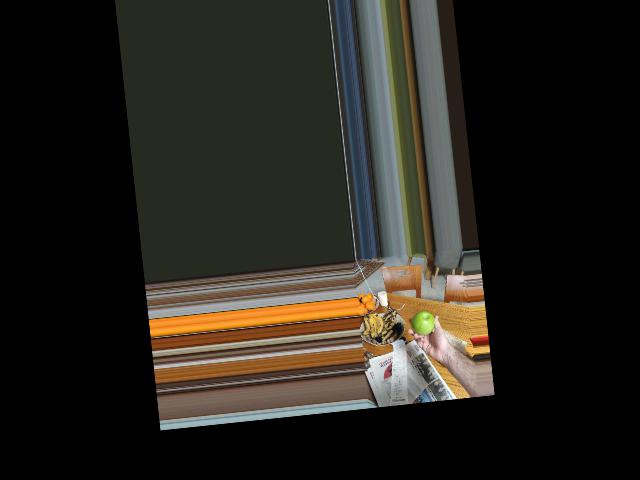apple: (409, 307, 437, 337)
